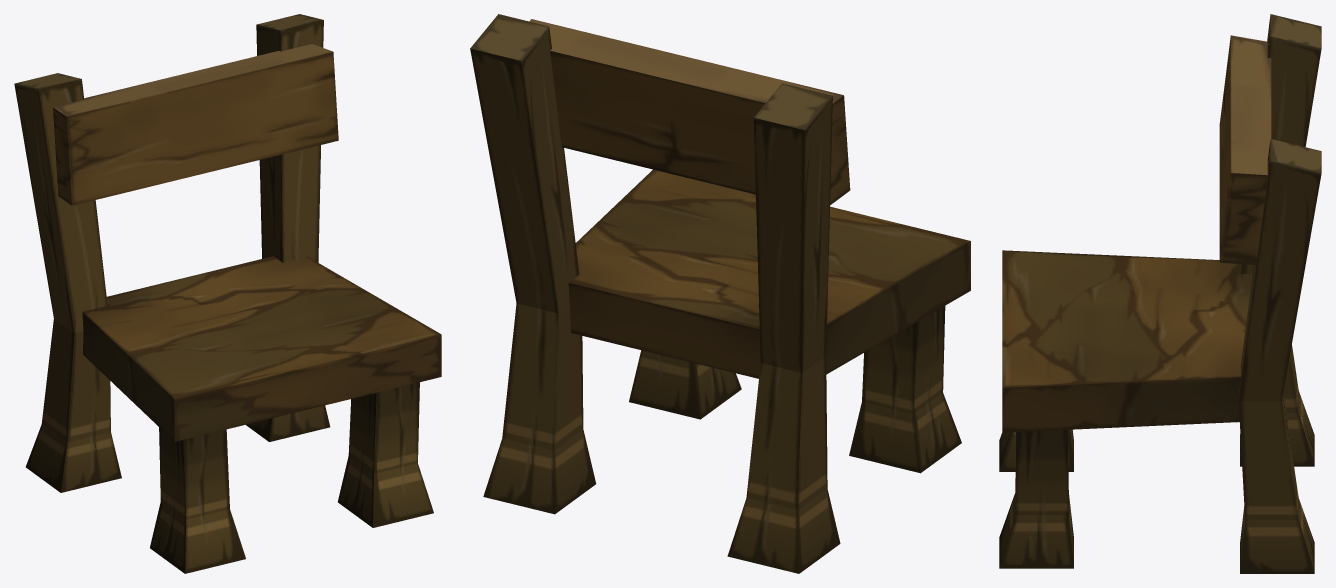
Rendered from Dg_01_chair_001.FBX.
3 views of the same model, side by side, from view 1: azimuth 30°, elevation 25°; view 2: azimuth 150°, elevation 25°; view 3: azimuth 270°, elevation 25° (orthographic). The views are drawn at different scales.
Parts seen in each view (by area): view 1: Dg_01_chair_001; view 2: Dg_01_chair_001; view 3: Dg_01_chair_001.
Part boxes in pixels (x1,y1,x2,y2): Dg_01_chair_001: [14, 14, 441, 573]; Dg_01_chair_001: [470, 14, 970, 573]; Dg_01_chair_001: [999, 14, 1321, 573].
Bounding box in the file's own units: 1.07 × 1.41 × 0.9901.
